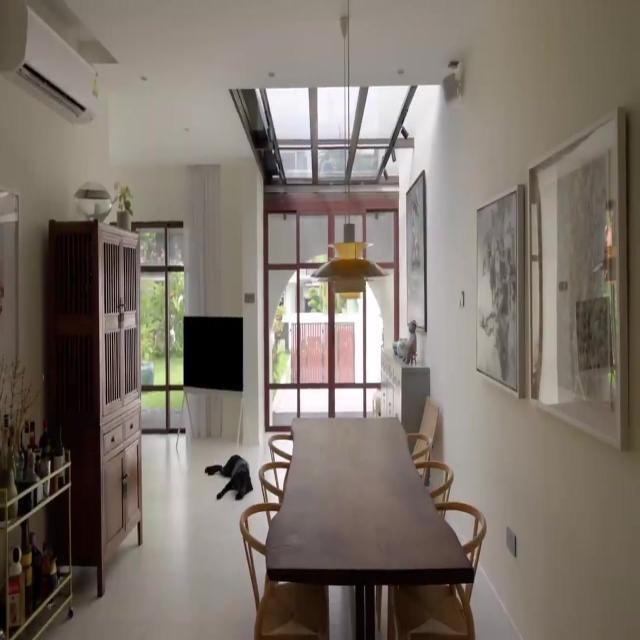door: (270, 199, 394, 405)
obstacle: (264, 415, 474, 638), (45, 218, 143, 596), (0, 448, 74, 639)
